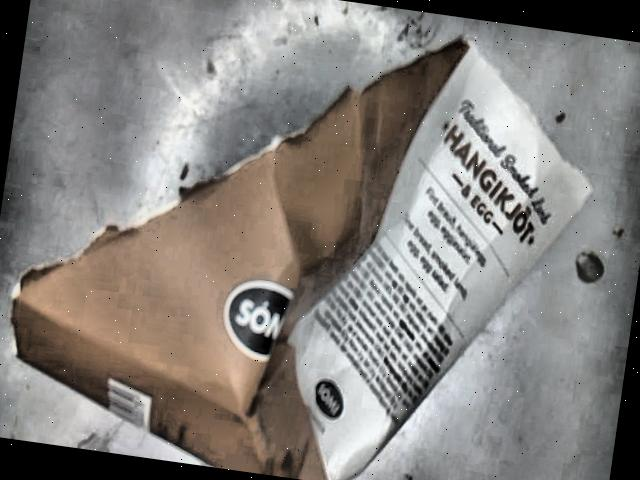Paper: (10, 37, 593, 480)
